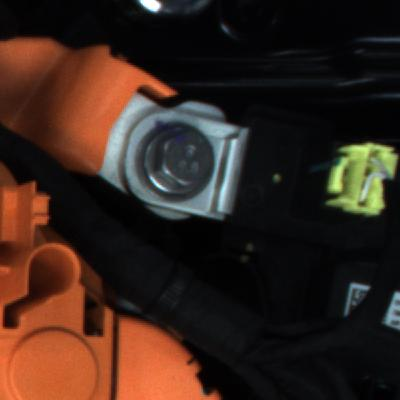nut_b: (129, 121, 221, 203)
